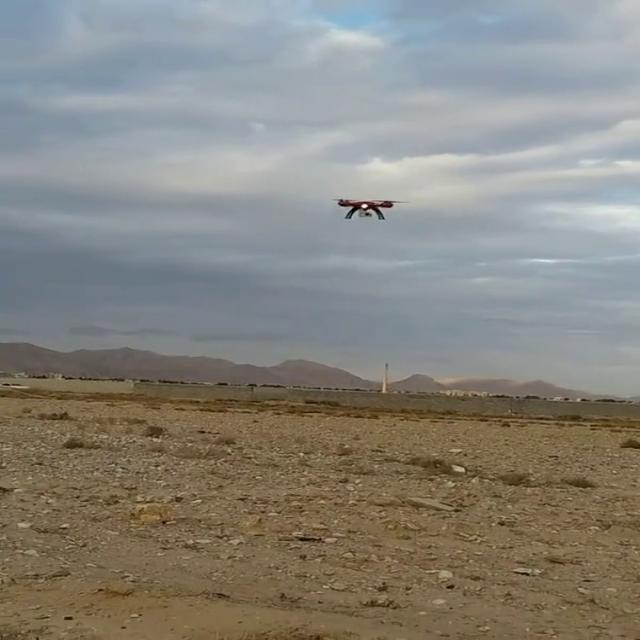drone: (330, 195, 408, 223)
